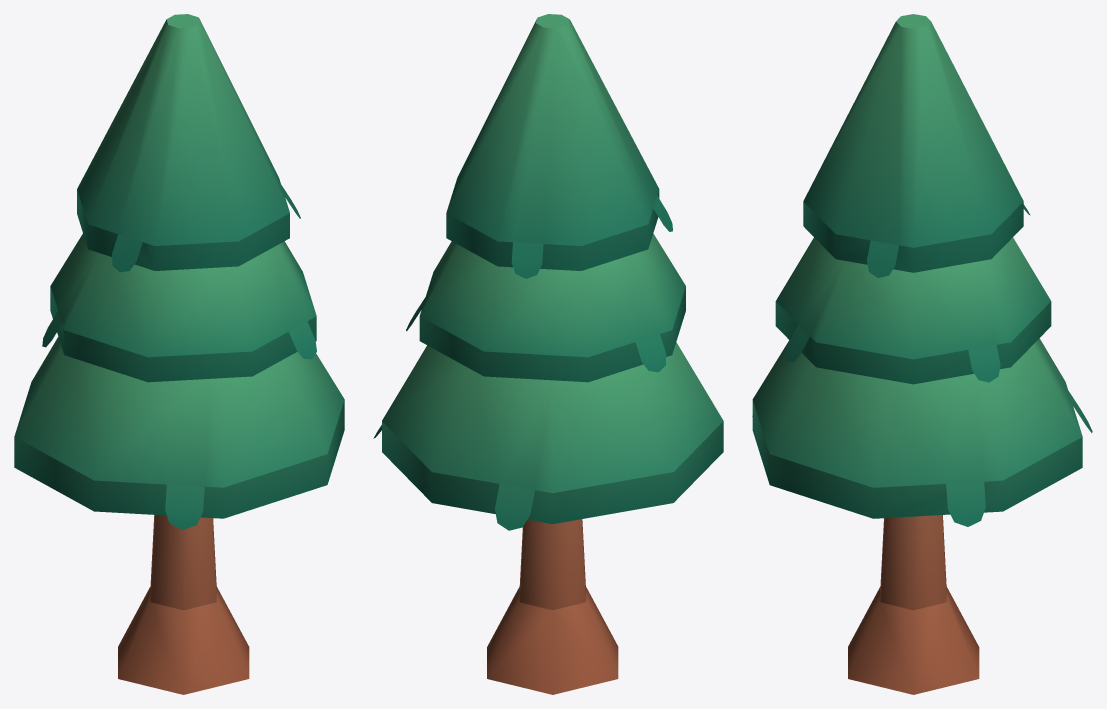
File: pinheiro.glb
3 renders of one model, left to right at view 1: azimuth 30°, elevation 25°; view 2: azimuth 150°, elevation 25°; view 3: azimuth 270°, elevation 25°, orthographic.
Parts seen in each view (by area): view 1: modelo; view 2: modelo; view 3: modelo.
Boxes of the visible parts, box(x1,y1,x2,y2) form: modelo: box(14, 14, 344, 694); modelo: box(373, 14, 723, 694); modelo: box(752, 14, 1092, 694).
Bounding box in the file's own units: 1.26 × 2.62 × 1.26.
